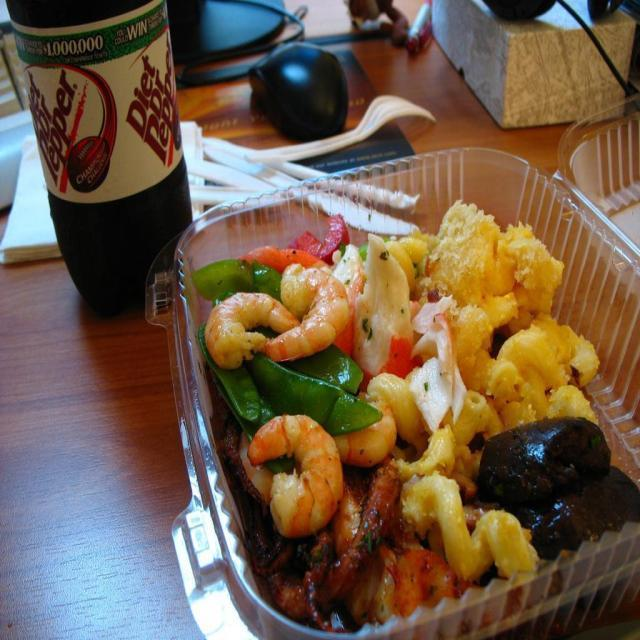Shrimp: (247, 414, 344, 540), (264, 261, 350, 355), (203, 290, 301, 368), (330, 393, 394, 469), (394, 548, 455, 616), (350, 548, 388, 626)
